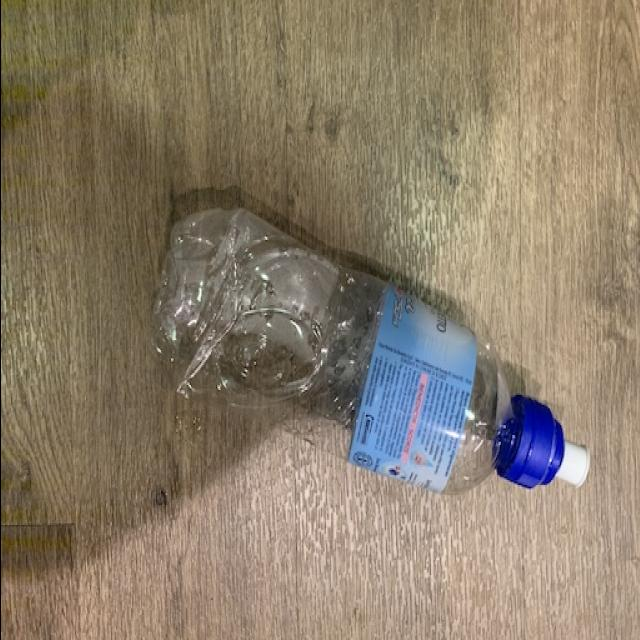PET: (147, 192, 588, 504)
